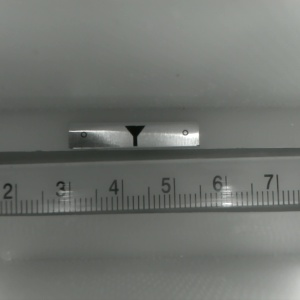2: (2, 183, 12, 199)
3: (55, 181, 65, 197)
4: (109, 179, 119, 194)
5: (160, 177, 170, 193)
6: (211, 176, 221, 191)
7: (263, 174, 273, 189)
finger: (123, 126, 145, 147)
